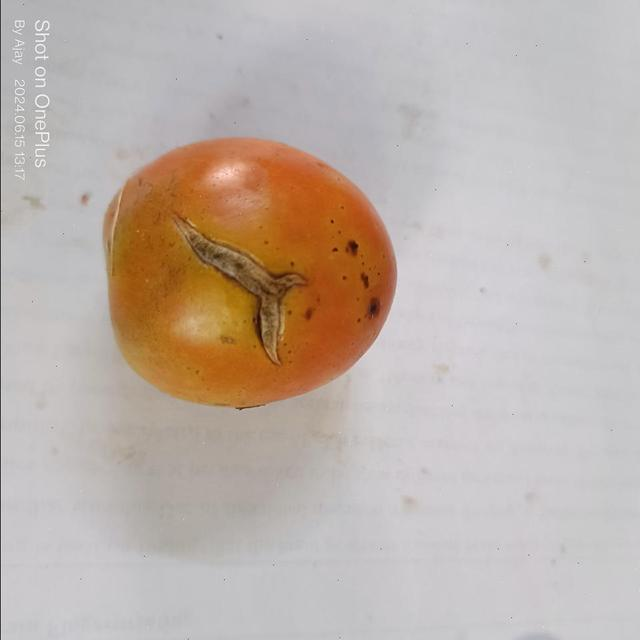Bacterial Spot Fruit: (16, 20, 246, 197)
